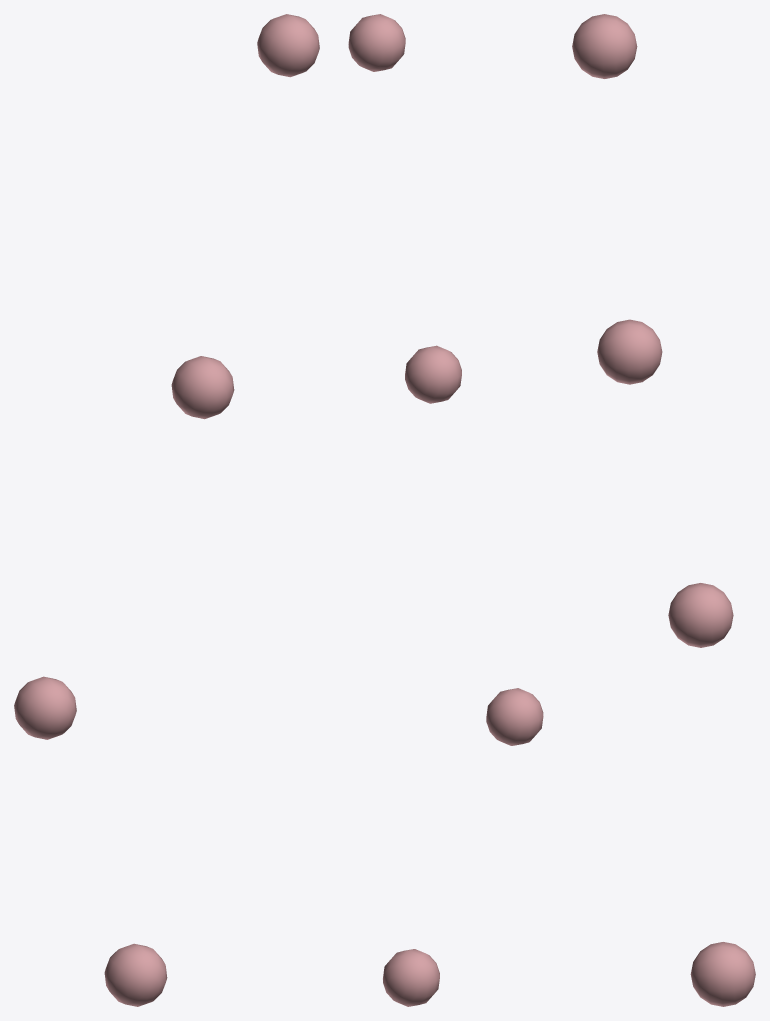
3 views of the same model, side by side, from view 1: azimuth 30°, elevation 25°; view 2: azimuth 150°, elevation 25°; view 3: azimuth 270°, elevation 25° (orthographic). The views are drawn at different scales.
Visible parts, largest first — view 1: ZA_d5c8aab7e176d4e6; view 2: ZA_d5c8aab7e176d4e6; view 3: ZA_d5c8aab7e176d4e6.
Part boxes in pixels (left/top/right/bottom): ZA_d5c8aab7e176d4e6: left=14, top=14, right=319, bottom=1006; ZA_d5c8aab7e176d4e6: left=348, top=14, right=543, bottom=1006; ZA_d5c8aab7e176d4e6: left=572, top=14, right=755, bottom=1006.
Bounding box in the file's own units: 0.0119 × 0.0454 × 0.00732.
